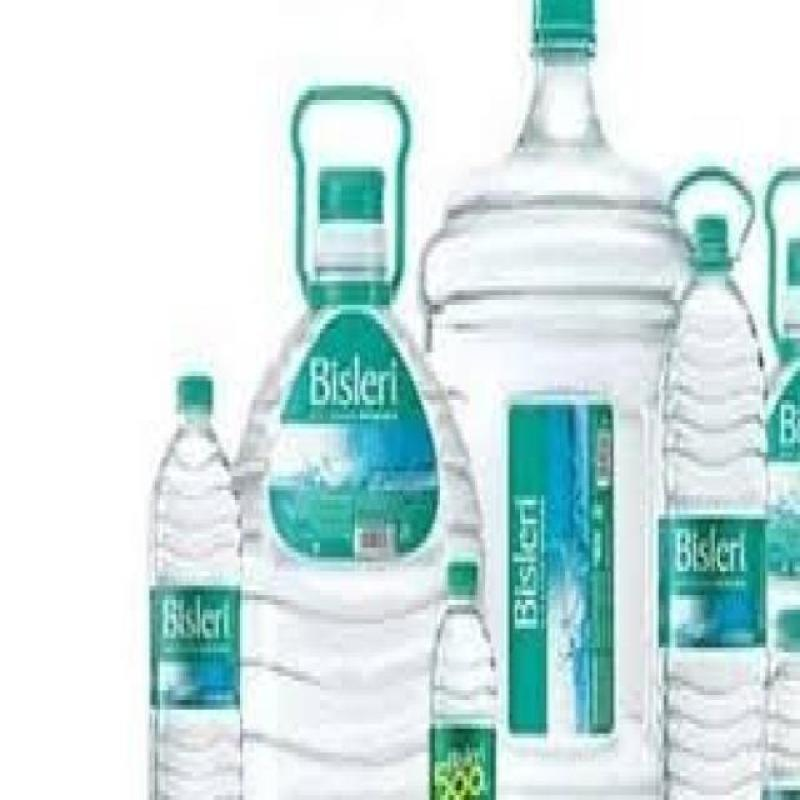botella: (661, 214, 765, 800), (148, 376, 242, 800), (428, 561, 496, 800)
